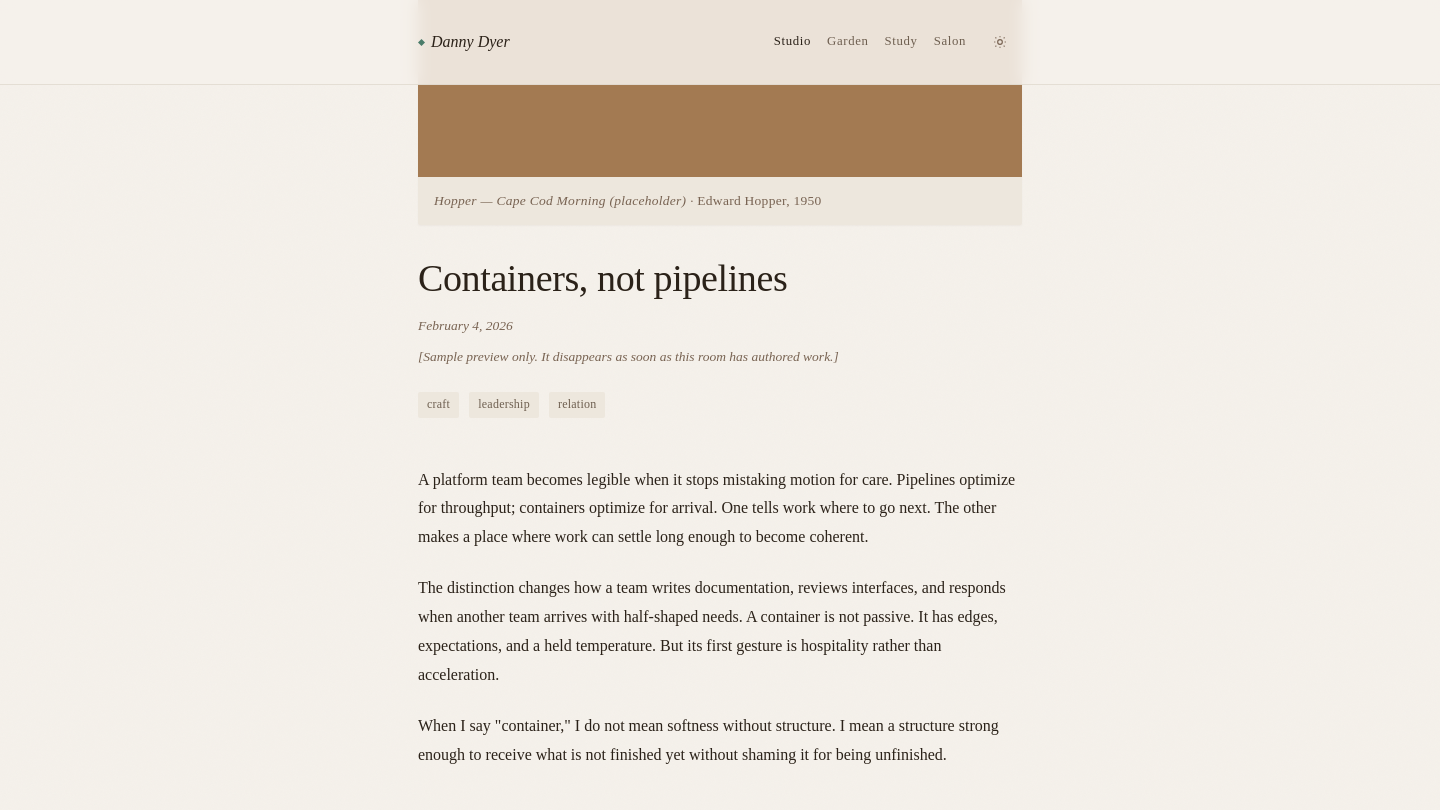
Routable navigation › navigates from a work-page facet chip to the matching facet page
The image size is (1440, 810).
(page scrolled)
Check: the heading "Containers, not pipelines" is shown, box [418,257,787,299]
Step 1. Click the link to "/facet/craft" → (439, 405), box [418,392,459,418]
(page scrolled)
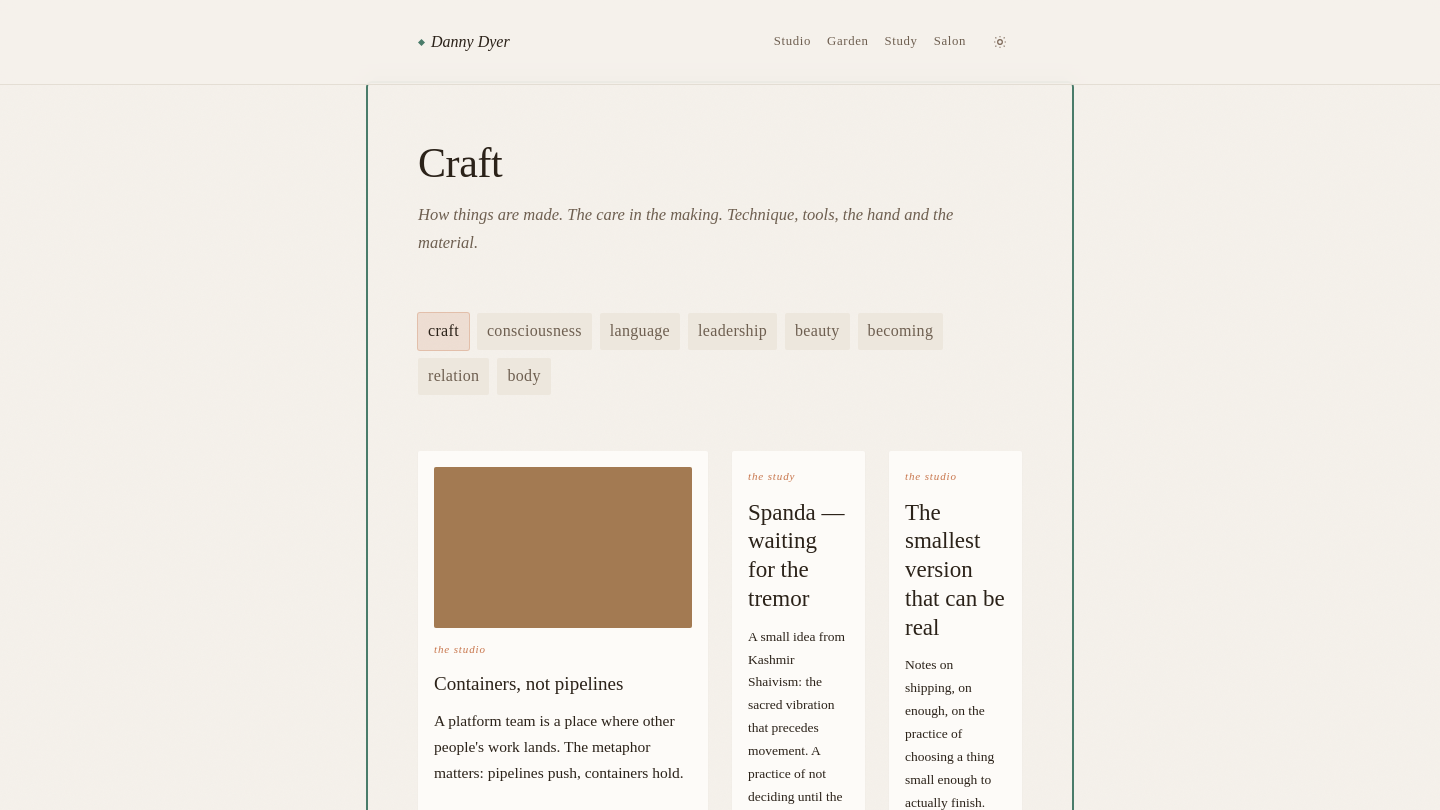
Check: the heading "Craft" is shown, box [418,140,502,186]
